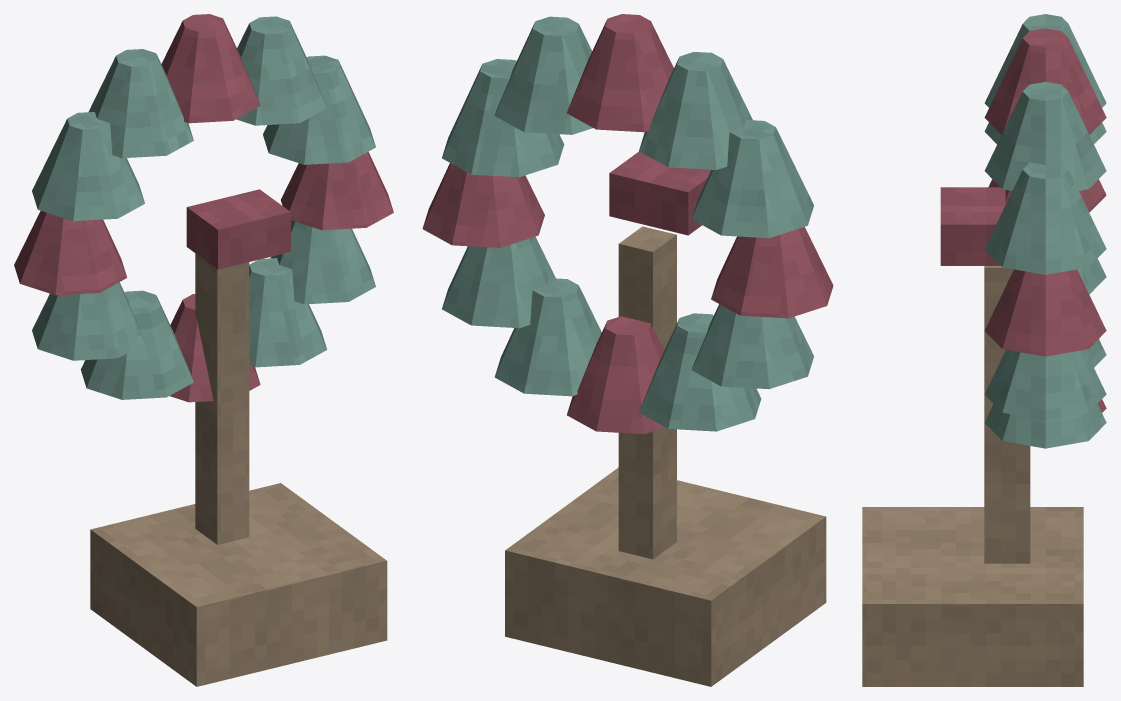
File: level_blockout_mortuary_flower_wreath.glb
3 renders of one model, left to right at view 1: azimuth 30°, elevation 25°; view 2: azimuth 150°, elevation 25°; view 3: azimuth 270°, elevation 25°, orthographic. The views are drawn at different scales.
Parts seen in each view (by area): view 1: level_blockout_mortuary_flower_wreath; view 2: level_blockout_mortuary_flower_wreath; view 3: level_blockout_mortuary_flower_wreath.
Part boxes in pixels (x1,y1,x2,y2): level_blockout_mortuary_flower_wreath: [14, 14, 393, 686]; level_blockout_mortuary_flower_wreath: [422, 14, 833, 686]; level_blockout_mortuary_flower_wreath: [862, 14, 1106, 686].
Size of the model in its own units: 1.16 by 1.74 by 0.64.
Materials: 3 (3 with a texture image).
